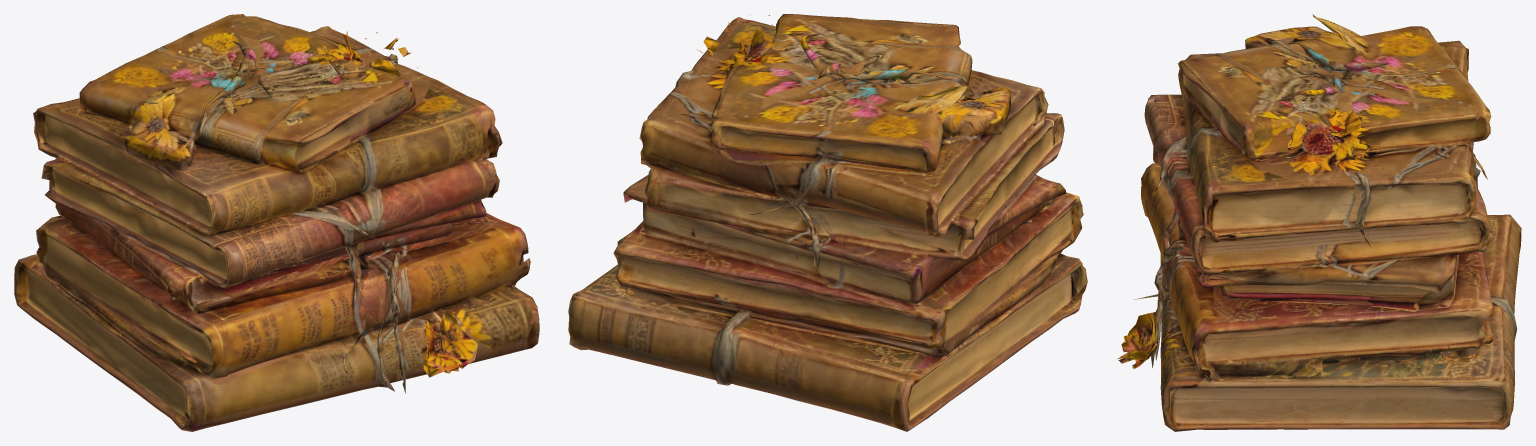
File: Old Books.glb
3 renders of one model, left to right at view 1: azimuth 30°, elevation 25°; view 2: azimuth 150°, elevation 25°; view 3: azimuth 270°, elevation 25°, orthographic.
Bounding box in the file's own units: 1.81 × 1.34 × 1.69.
1 material, 1 textured.
